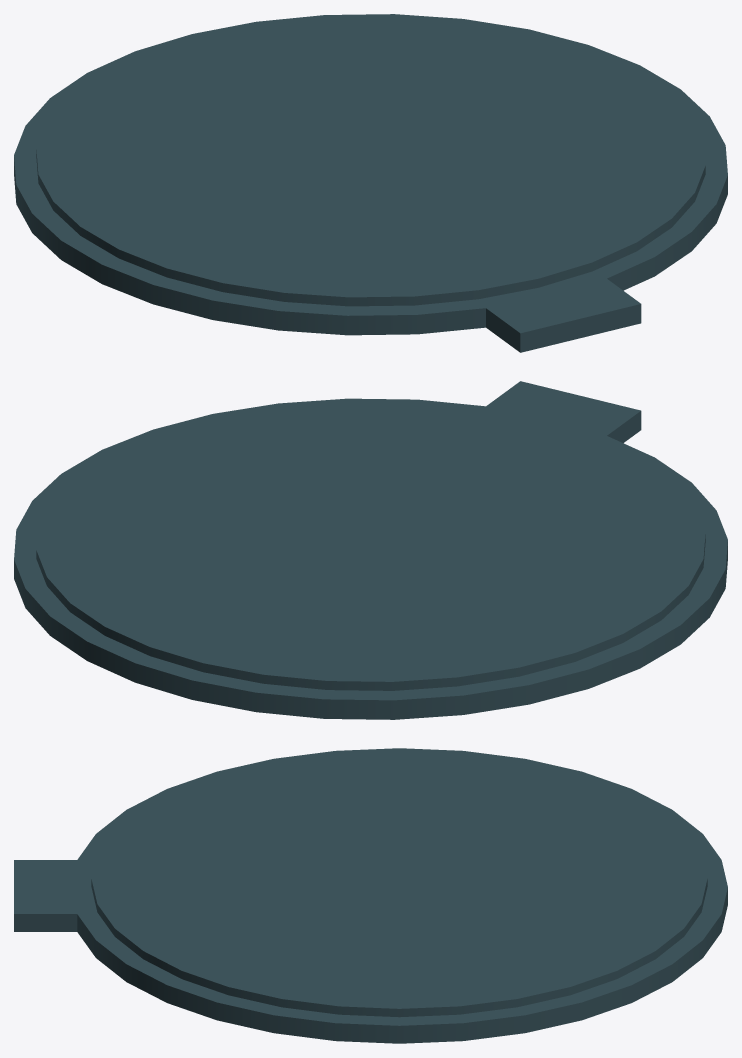
The model's file is hatch.fbx.
3 renders of one model, top to bottom at view 1: azimuth 30°, elevation 25°; view 2: azimuth 150°, elevation 25°; view 3: azimuth 270°, elevation 25°, orthographic. The views are drawn at different scales.
Visible parts, largest first — view 1: Cylinder.005; view 2: Cylinder.005; view 3: Cylinder.005.
Boxes of the visible parts, x1=… form: Cylinder.005: x1=14, y1=14, x2=727, y2=352; Cylinder.005: x1=14, y1=381, x2=727, y2=719; Cylinder.005: x1=14, y1=748, x2=727, y2=1043.
Bounding box in the file's own units: 63.15 × 2.78 × 68.62.
